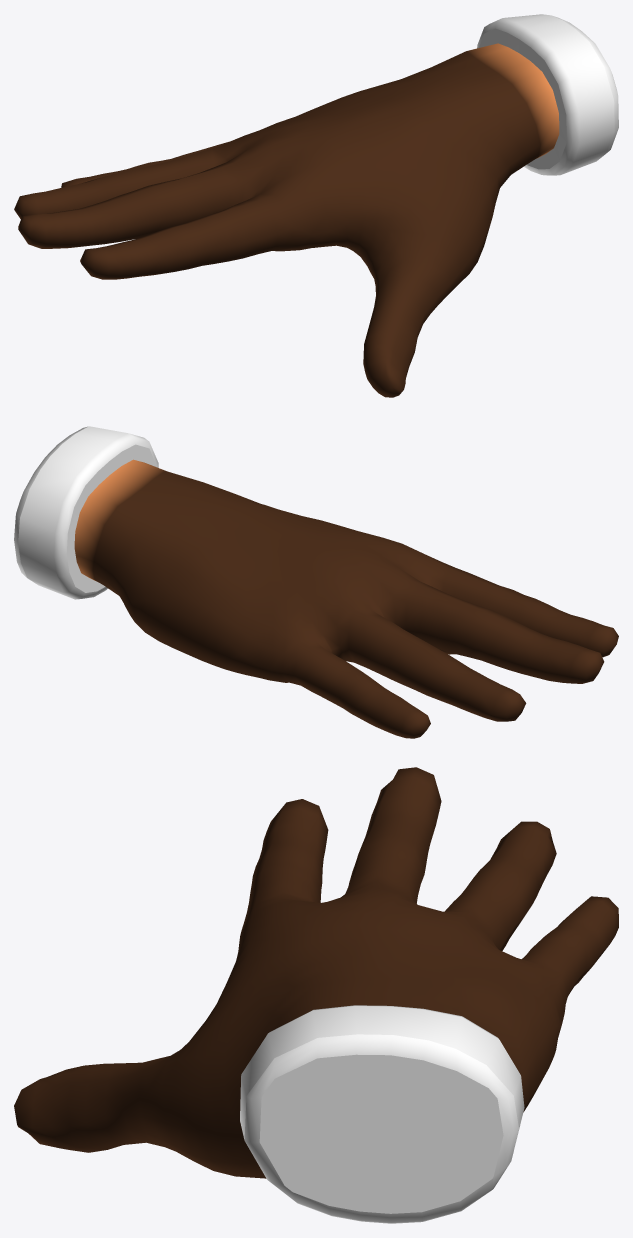
Rendered from Hand_OnlyMesh.fbx.
3 renders of one model, top to bottom at view 1: azimuth 30°, elevation 25°; view 2: azimuth 150°, elevation 25°; view 3: azimuth 270°, elevation 25°, orthographic. The views are drawn at different scales.
Visible parts, largest first — view 1: r_handMeshNode; view 2: r_handMeshNode; view 3: r_handMeshNode.
Part boxes in pixels (x1=…): r_handMeshNode: x1=14, y1=14, x2=618, y2=397; r_handMeshNode: x1=14, y1=426, x2=618, y2=738; r_handMeshNode: x1=14, y1=767, x2=618, y2=1223.
Bounding box in the file's own units: 21.9 × 8.43 × 14.59.
